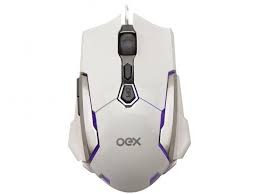mouse: (65, 16, 200, 192)
